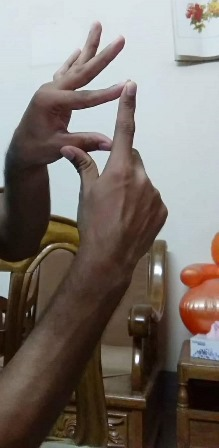k: (27, 22, 167, 233)
